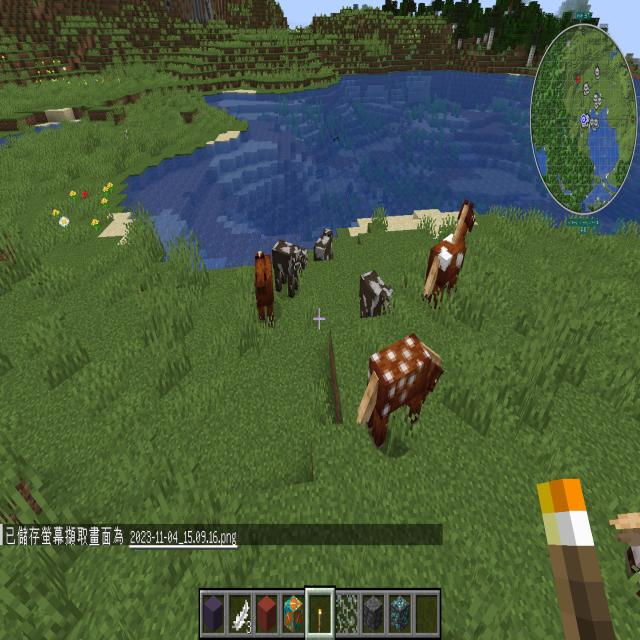cow: (352, 259, 400, 336), (268, 230, 310, 313), (311, 215, 341, 274)
